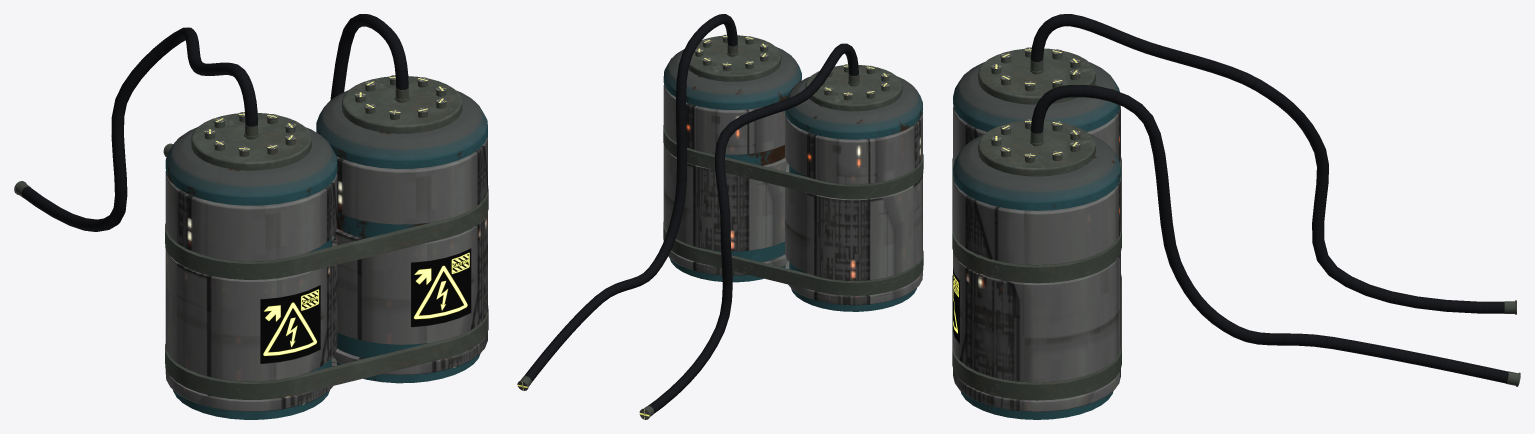
File: energy_barrel-thingy.glb
3 renders of one model, left to right at view 1: azimuth 30°, elevation 25°; view 2: azimuth 150°, elevation 25°; view 3: azimuth 270°, elevation 25°, orthographic. The views are drawn at different scales.
Parts seen in each view (by area): view 1: defaultMaterial; view 2: defaultMaterial; view 3: defaultMaterial.
Part boxes in pixels (x1,y1,x2,y2): defaultMaterial: [14, 14, 488, 419]; defaultMaterial: [517, 14, 923, 419]; defaultMaterial: [952, 14, 1520, 419].
Size of the model in its own units: 1.19 by 1.18 by 2.
1 material, 1 textured.
